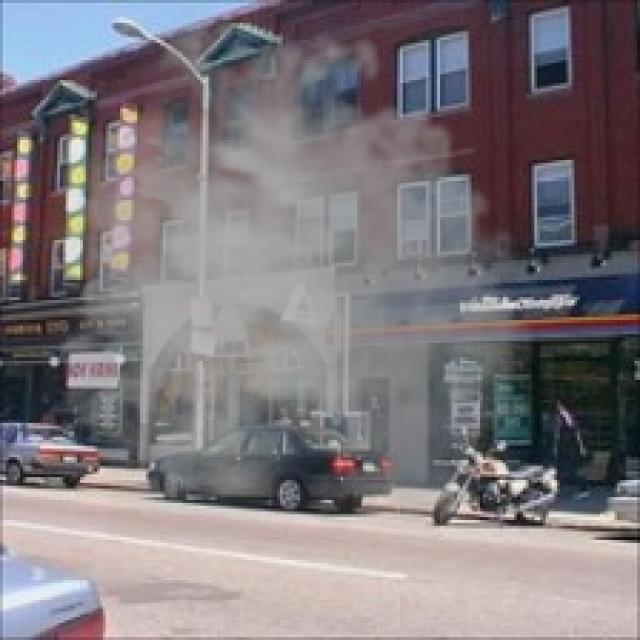Smoke: (14, 0, 552, 535)
